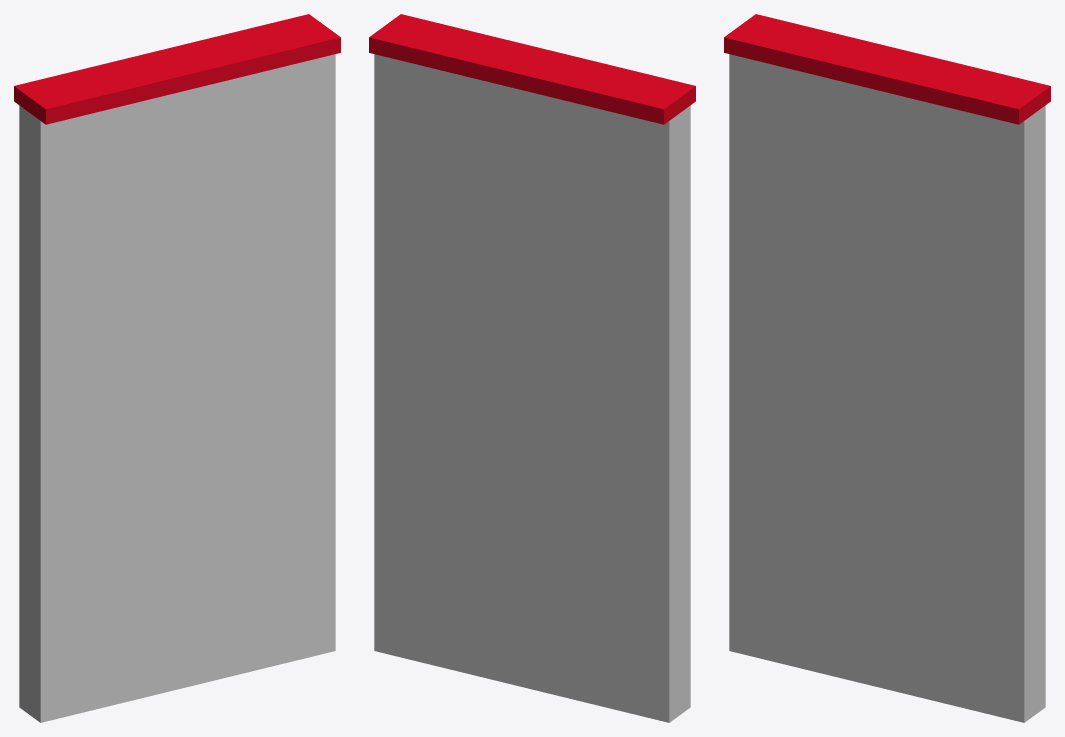
File: BrickWall.fbx
3 views of the same model, side by side, from view 1: azimuth 30°, elevation 25°; view 2: azimuth 150°, elevation 25°; view 3: azimuth 330°, elevation 25° (orthographic).
Visible parts, largest first — view 1: Cube; view 2: Cube; view 3: Cube.
Part boxes in pixels (left/top/right/bottom): Cube: left=14, top=14, right=340, bottom=722; Cube: left=369, top=14, right=695, bottom=722; Cube: left=724, top=14, right=1050, bottom=722.
Bounding box in the file's own units: 400 × 75 × 800.
